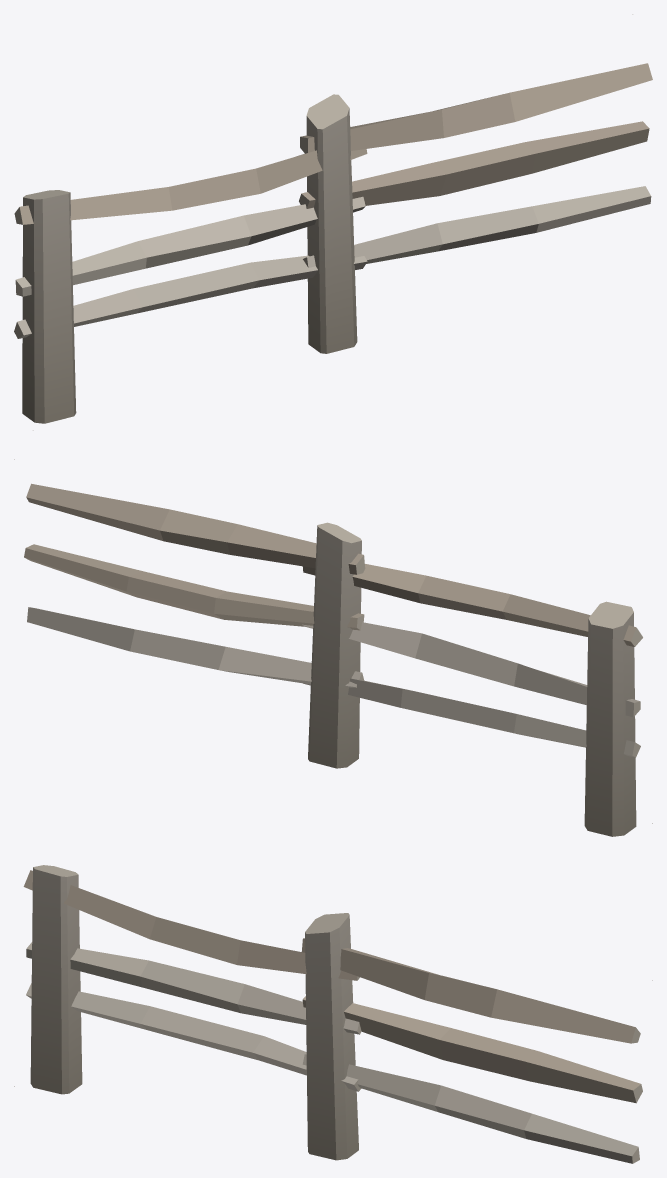
The model's file is CreekFenceSection2_wood.glb.
3 views of the same model, one above another, from view 1: azimuth 30°, elevation 25°; view 2: azimuth 150°, elevation 25°; view 3: azimuth 330°, elevation 25° (orthographic). The views are drawn at different scales.
Visible parts, largest first — view 1: CreekFenceSection2_wood; view 2: CreekFenceSection2_wood; view 3: CreekFenceSection2_wood.
Boxes of the visible parts, x1,y1,x2,y2 form: CreekFenceSection2_wood: [14, 14, 652, 430]; CreekFenceSection2_wood: [14, 459, 652, 836]; CreekFenceSection2_wood: [14, 865, 652, 1163].
Size of the model in its own units: 11.05 by 4.06 by 0.8713.
